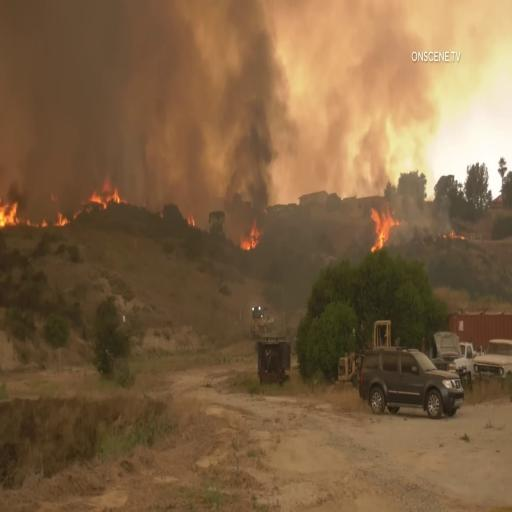fire: (370, 190, 398, 255), (239, 215, 261, 259)
smoke: (220, 20, 277, 212)
